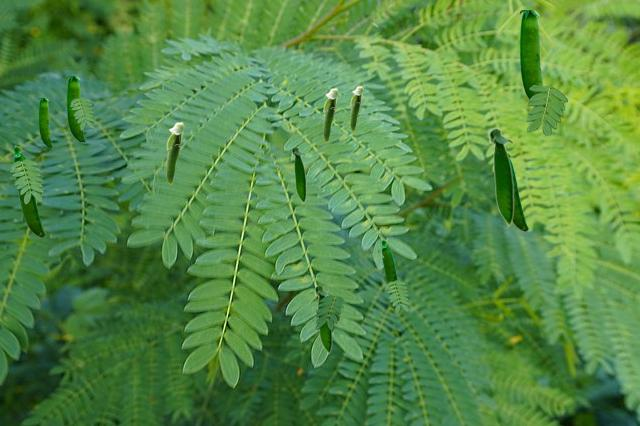pea: (13, 145, 44, 236), (488, 127, 513, 227), (520, 10, 543, 99), (505, 145, 527, 230), (314, 284, 331, 354), (67, 76, 84, 142), (166, 122, 183, 183), (381, 239, 398, 294), (291, 146, 305, 203), (323, 88, 337, 141), (39, 98, 51, 147), (350, 86, 362, 130)
